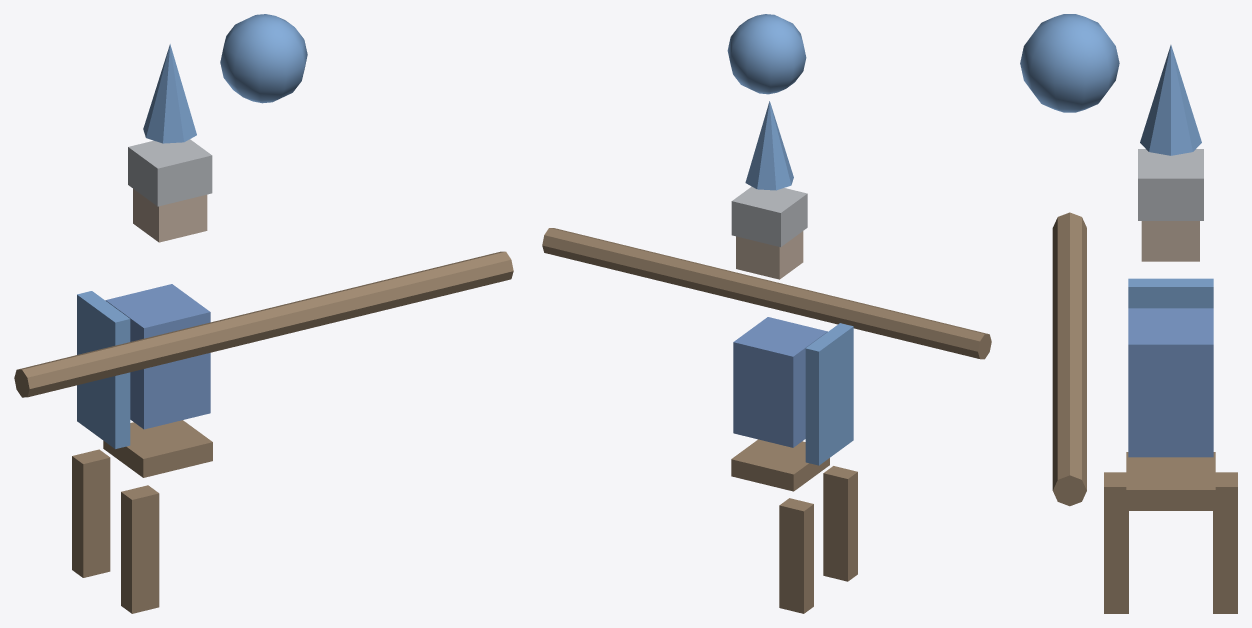
Rendered from vanguard_battle_cleric.glb.
3 renders of one model, left to right at view 1: azimuth 30°, elevation 25°; view 2: azimuth 150°, elevation 25°; view 3: azimuth 270°, elevation 25°, orthographic. The views are drawn at different scales.
Visible parts, largest first — view 1: vanguard_battle_cleric; view 2: vanguard_battle_cleric; view 3: vanguard_battle_cleric.
Part boxes in pixels (x1,y1,x2,y2): vanguard_battle_cleric: (14,14,513,613); vanguard_battle_cleric: (542,14,991,613); vanguard_battle_cleric: (1020,14,1237,613).
Size of the model in its own units: 40 by 45.7 by 14.
